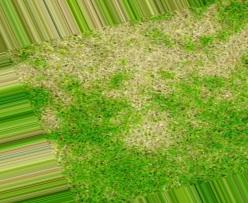patch: (56, 43, 147, 76), (122, 87, 149, 106), (210, 61, 234, 80), (161, 48, 186, 63), (22, 68, 34, 90), (149, 126, 168, 138), (146, 53, 160, 69), (128, 137, 146, 146)
